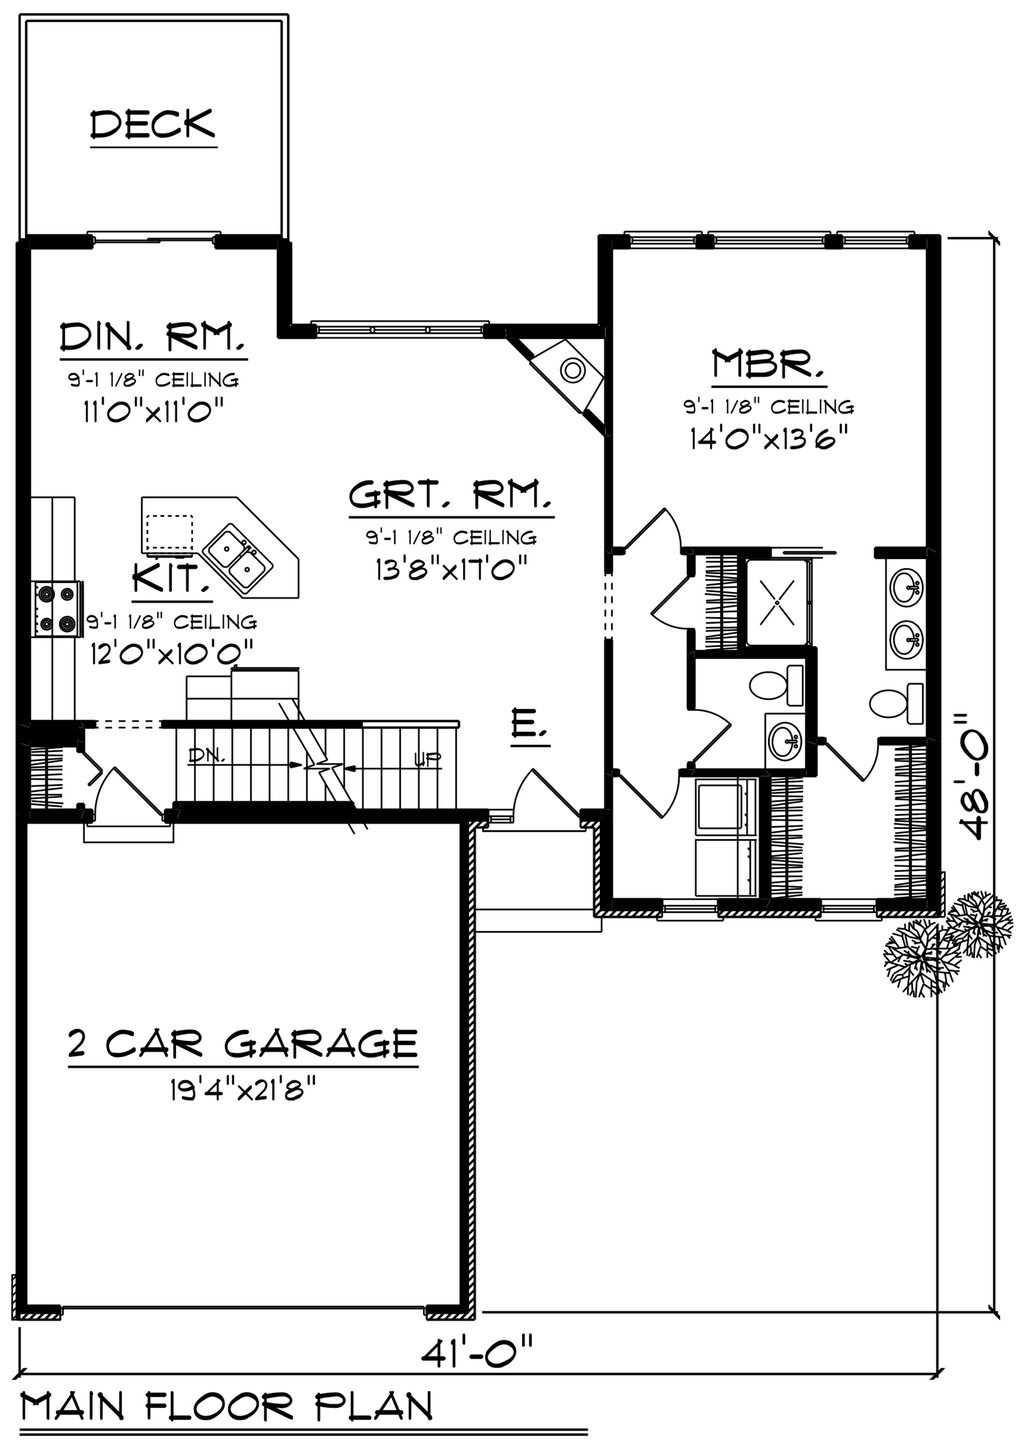door: (509, 765, 586, 839), (646, 566, 704, 652), (622, 765, 684, 832), (820, 730, 882, 792), (91, 765, 162, 819), (677, 706, 733, 770), (628, 506, 690, 555)
large_sink: (735, 657, 809, 715), (864, 677, 922, 728)
small_sink: (873, 559, 931, 621), (765, 715, 813, 777), (882, 617, 924, 672)
stairs: (173, 659, 504, 828)
twin_sink: (197, 504, 317, 628)
window: (317, 312, 489, 339), (720, 217, 836, 246), (651, 895, 730, 919), (623, 228, 708, 250), (815, 895, 889, 919)
